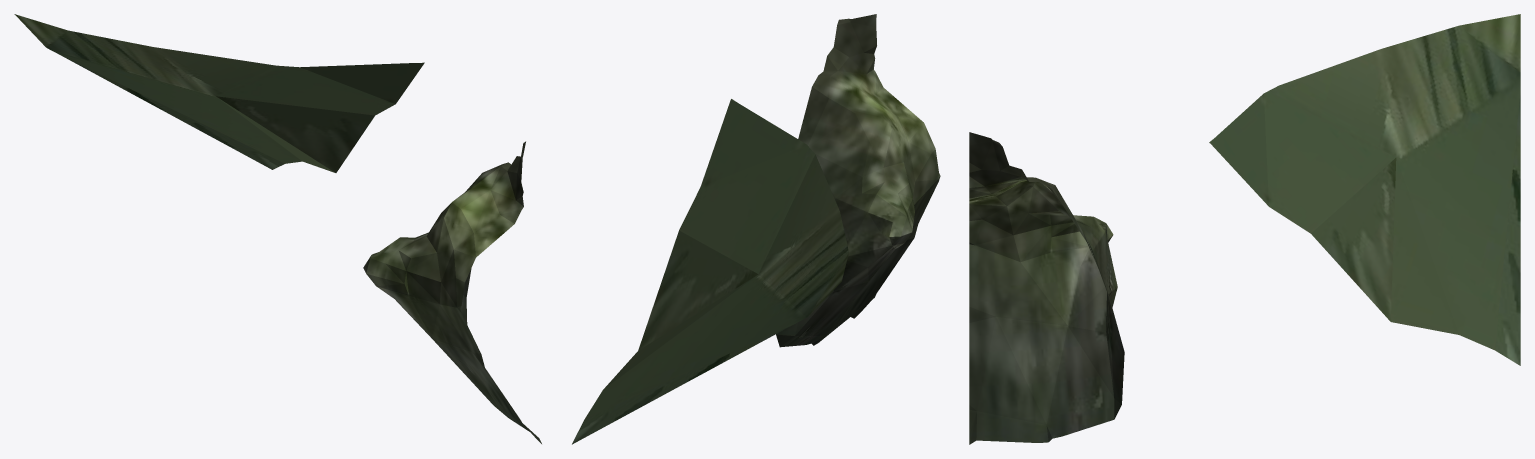
The picture shows the model from 3 angles, left to right: view 1: azimuth 30°, elevation 25°; view 2: azimuth 150°, elevation 25°; view 3: azimuth 270°, elevation 25°; orthographic projection. The views are drawn at different scales.
Bounding box in the file's own units: 1.63 × 1.78 × 2.95.
2 materials, 2 textured.
